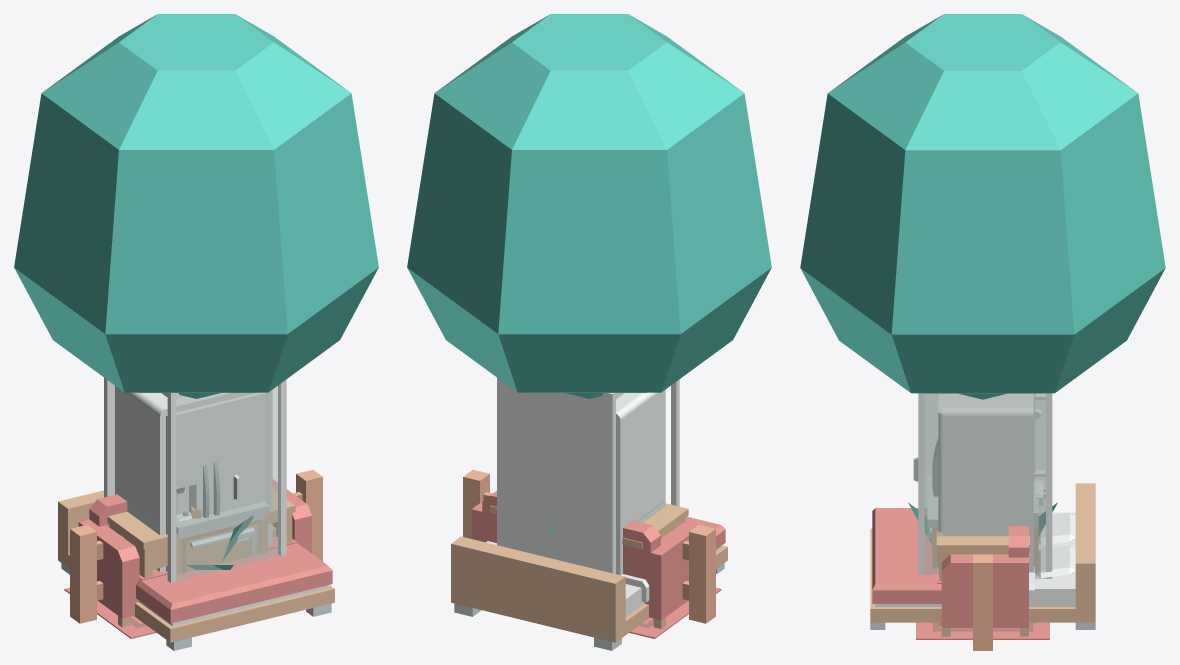
File: house.glb
The picture shows the model from 3 angles, left to right: view 1: azimuth 30°, elevation 25°; view 2: azimuth 150°, elevation 25°; view 3: azimuth 270°, elevation 25°; orthographic projection.
Parts seen in each view (by area): view 1: tree, shower, fridge, bed, sofa, fence, kcab, desk, stove, rug, bush; view 2: tree, shower, bed, fridge, sofa, fence, desk, rug; view 3: tree, shower, bed, fridge, sofa, fence, desk, rug, kcab.
Part boxes in pixels (<box>): tree: <box>14,14,378,518</box>; shower: <box>104,378,286,582</box>; fridge: <box>115,386,272,572</box>; bed: <box>58,490,334,650</box>; sofa: <box>78,479,311,627</box>; fence: <box>70,469,322,623</box>; kcab: <box>176,501,270,574</box>; desk: <box>107,489,295,577</box>; stove: <box>176,502,268,555</box>; rug: <box>64,587,156,638</box>; bush: <box>128,503,268,569</box>; tree: <box>407,14,771,392</box>; shower: <box>497,378,679,573</box>; bed: <box>451,516,727,650</box>; fridge: <box>616,389,665,575</box>; sofa: <box>471,491,696,628</box>; fence: <box>463,469,715,623</box>; desk: <box>490,503,688,549</box>; rug: <box>629,587,721,638</box>; tree: <box>800,14,1165,393</box>; shower: <box>913,393,1052,578</box>; bed: <box>870,483,1095,629</box>; fridge: <box>932,393,1033,571</box>; sofa: <box>937,525,1028,636</box>; fence: <box>973,554,992,650</box>; desk: <box>936,530,1029,626</box>; rug: <box>916,622,1049,639</box>; kcab: <box>927,468,1038,573</box>.
Bounding box in the file's own units: 2.61 × 5 × 3.02.
